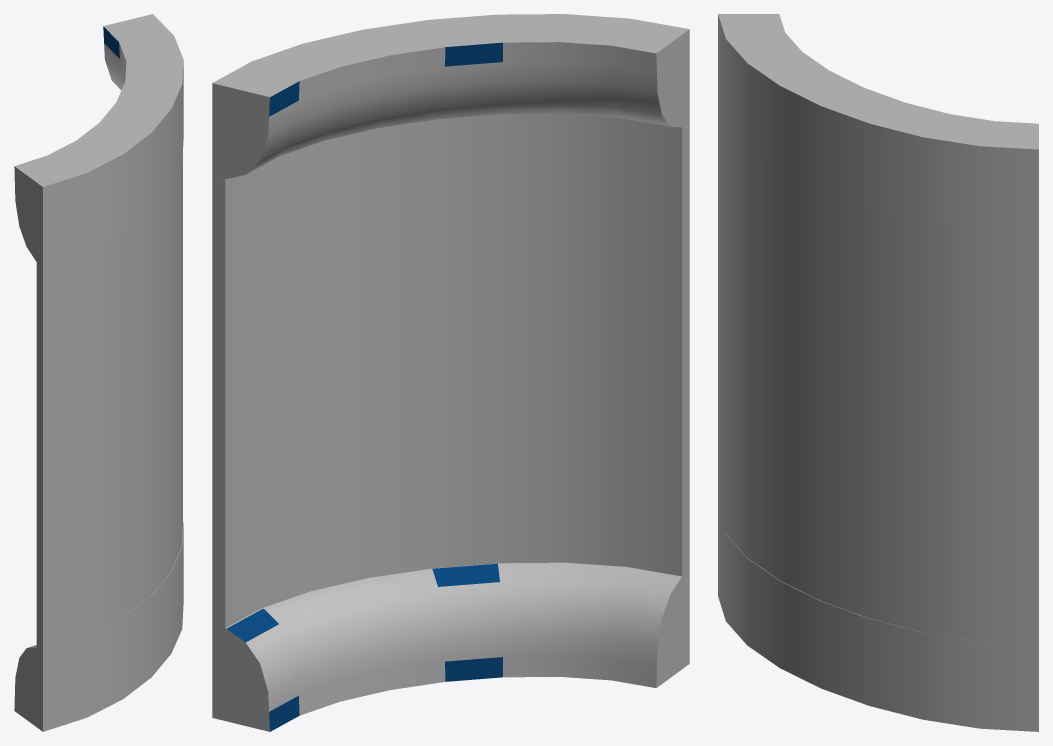
The model's file is Basement_Corner_L.fbx.
The picture shows the model from 3 angles, left to right: view 1: azimuth 30°, elevation 25°; view 2: azimuth 150°, elevation 25°; view 3: azimuth 270°, elevation 25°; orthographic projection. The views are drawn at different scales.
Visible parts, largest first — view 1: Basement_Corner_L; view 2: Basement_Corner_L; view 3: Basement_Corner_L.
Boxes of the visible parts, left/top/right/bottom form: Basement_Corner_L: left=14, top=14, right=183, bottom=731; Basement_Corner_L: left=212, top=14, right=689, bottom=731; Basement_Corner_L: left=718, top=14, right=1038, bottom=731.
Size of the model in its own units: 100 by 200 by 100.
